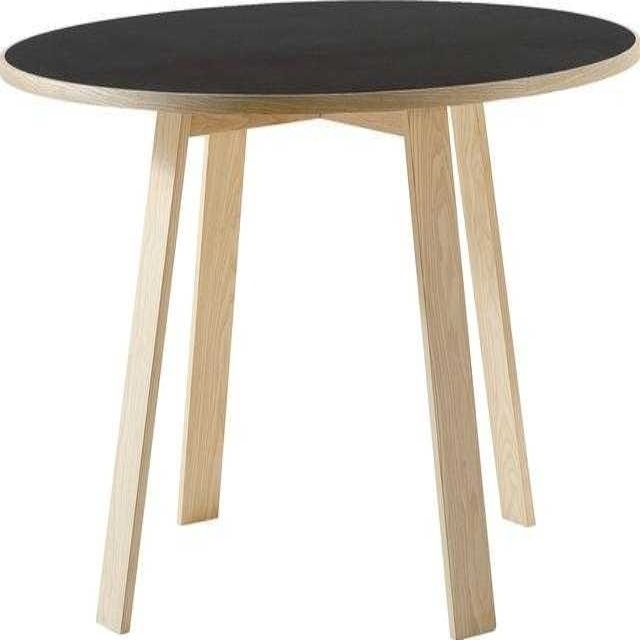obstacle: (132, 122, 447, 636), (456, 62, 639, 636), (0, 79, 154, 636)
